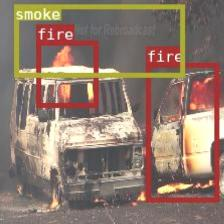fire: (146, 62, 218, 201), (36, 40, 96, 106)
smoke: (13, 4, 184, 76)
